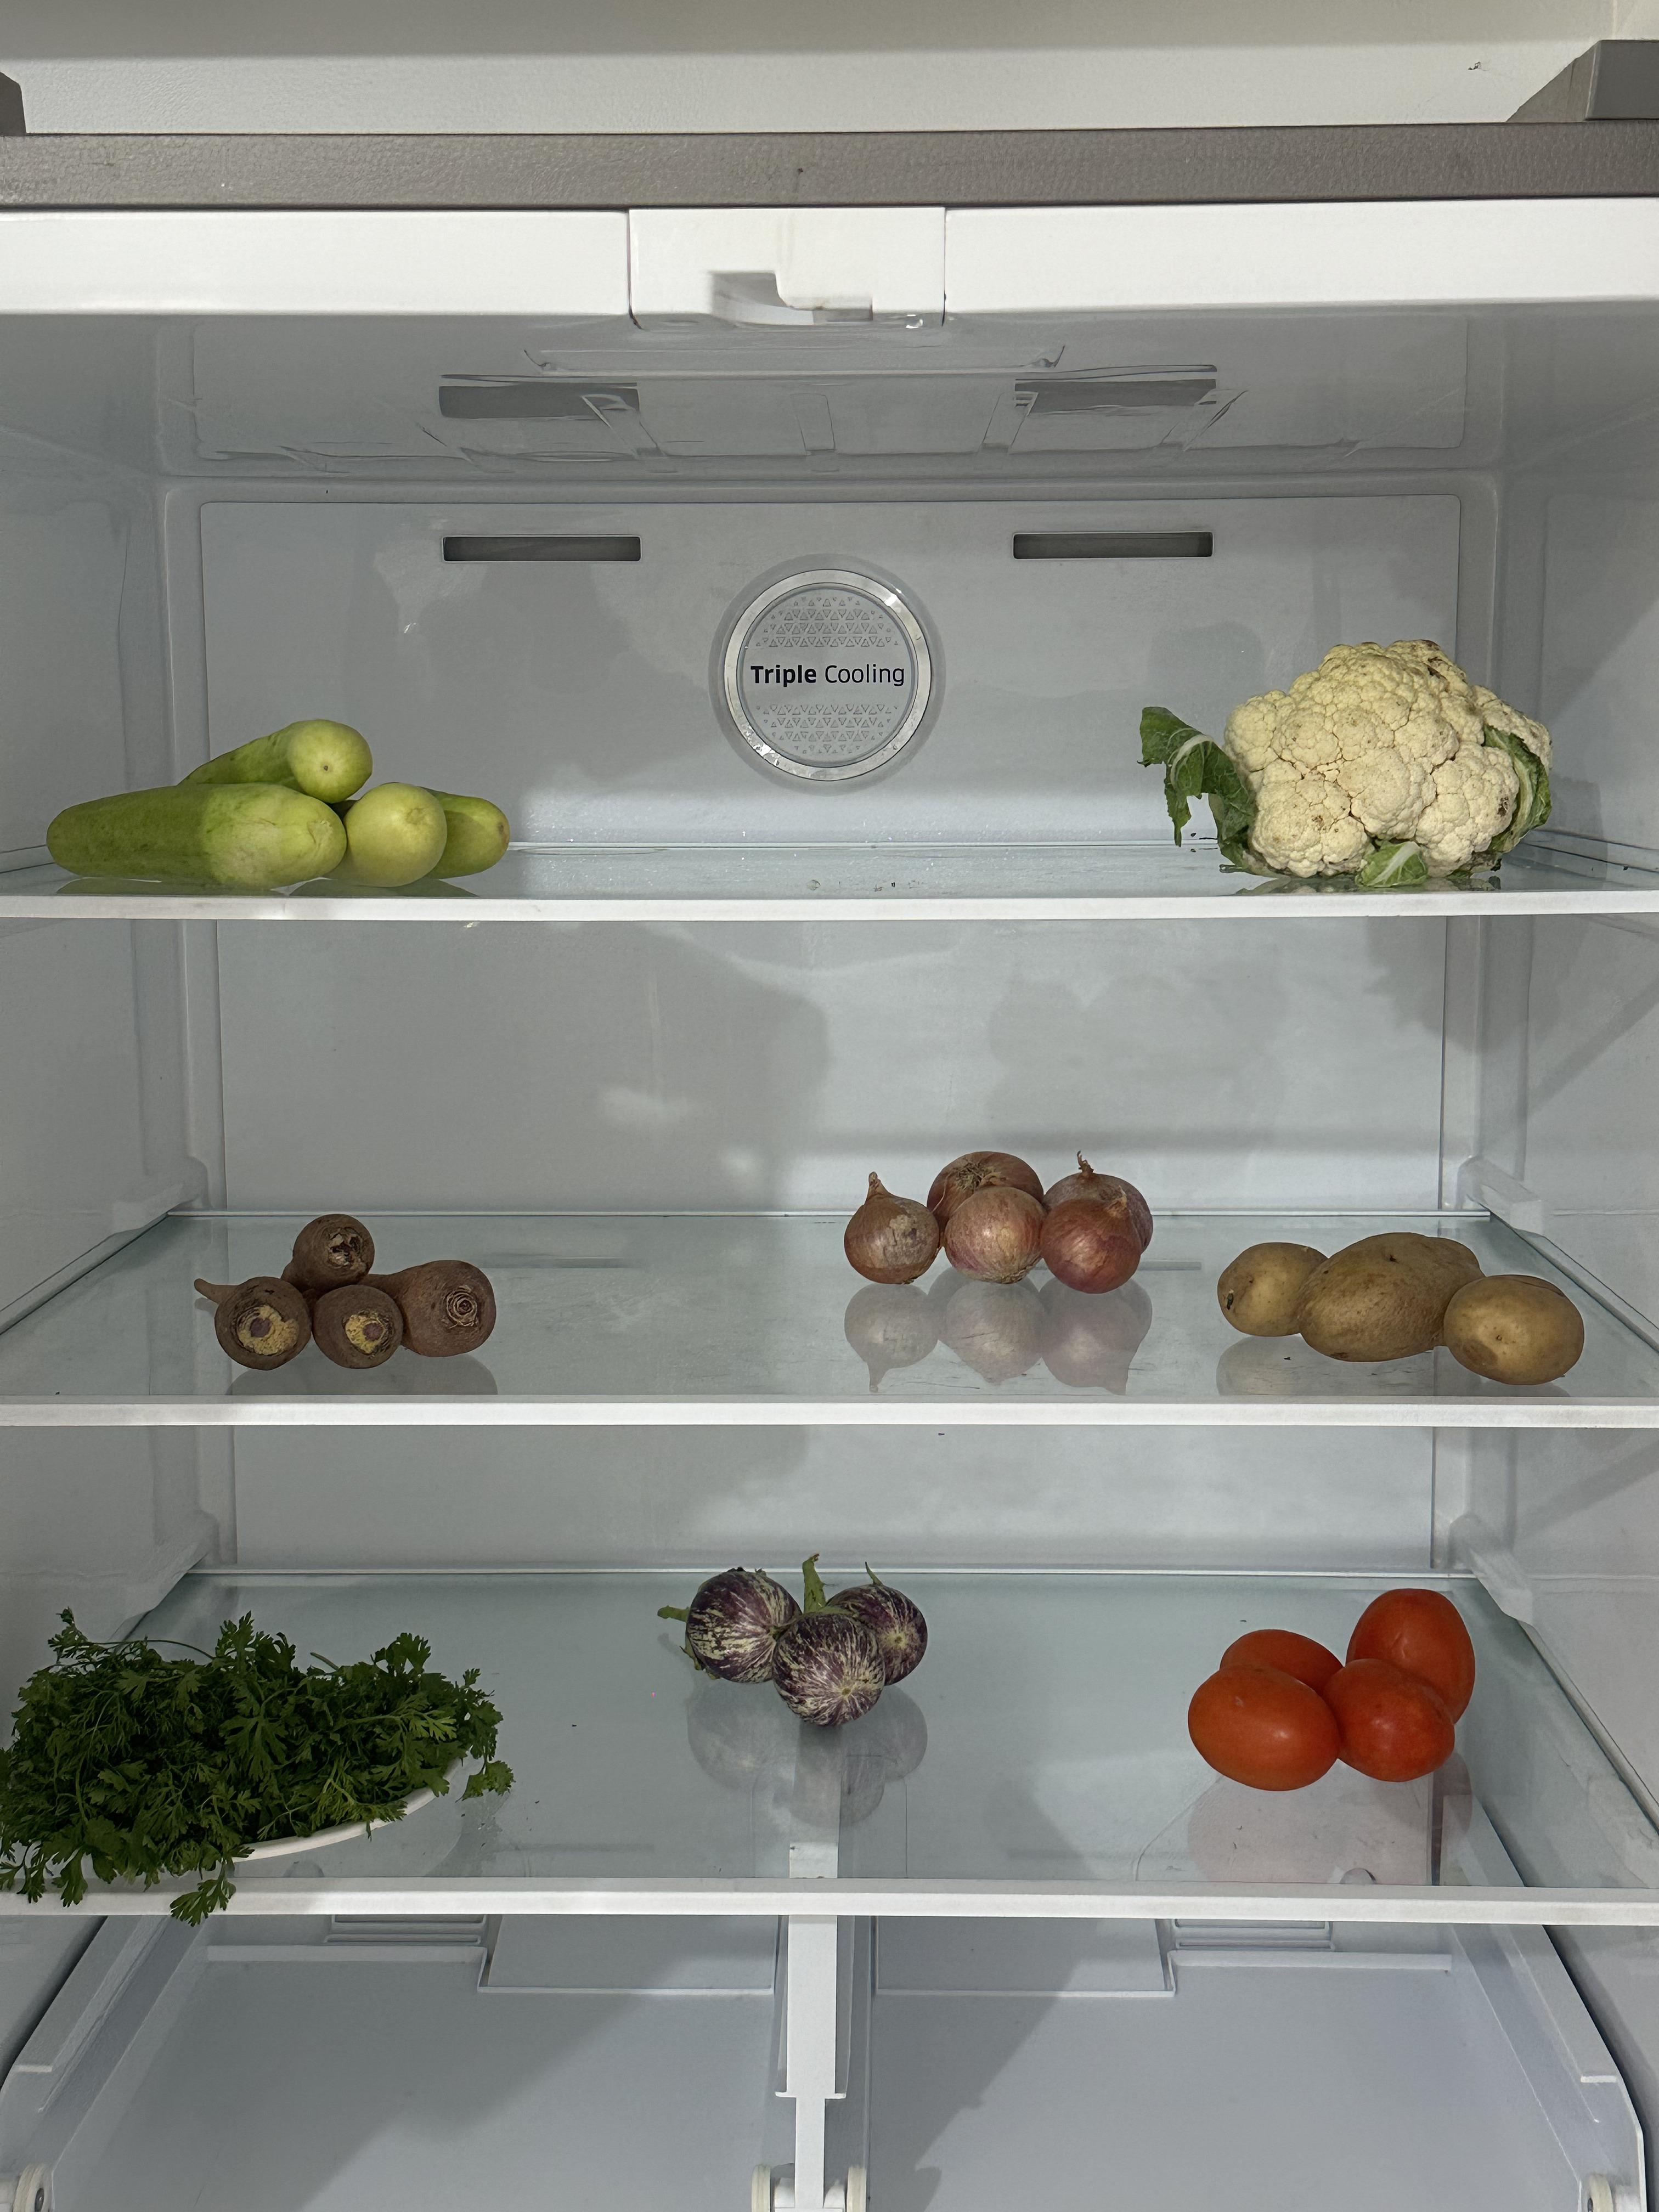bringal: (669, 1548, 932, 1737)
carrots: (185, 1211, 507, 1374)
cauliflower: (1180, 644, 1556, 880)
coriander: (37, 1615, 516, 1885)
cucumber: (44, 707, 511, 895)
onion: (838, 1144, 1157, 1296)
potato: (1222, 1228, 1582, 1388)
tomato: (1190, 1576, 1478, 1791)
